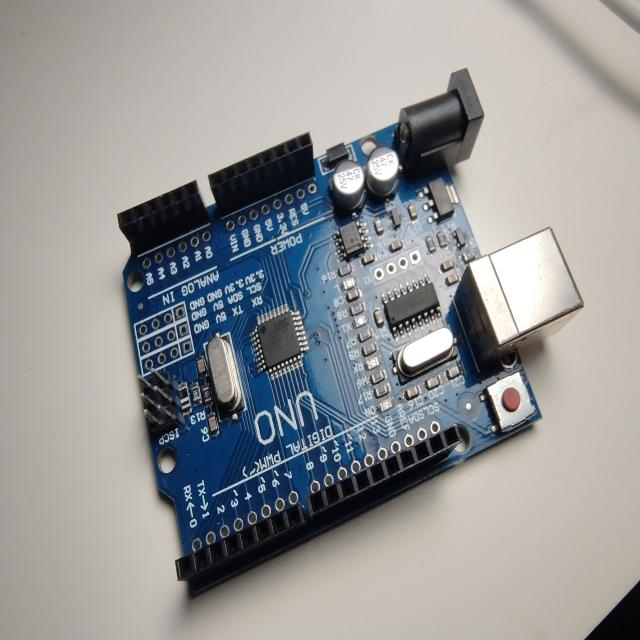arduino: (114, 68, 587, 601)
